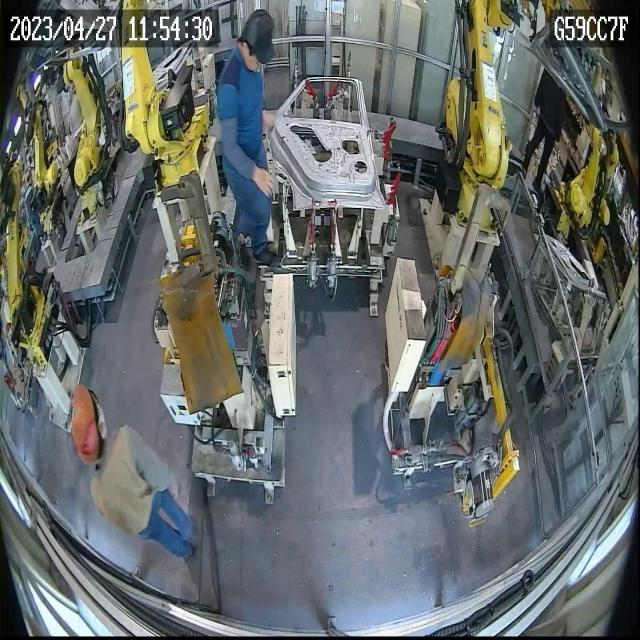Person: (68, 384, 196, 562), (216, 8, 279, 268), (521, 56, 568, 194)
